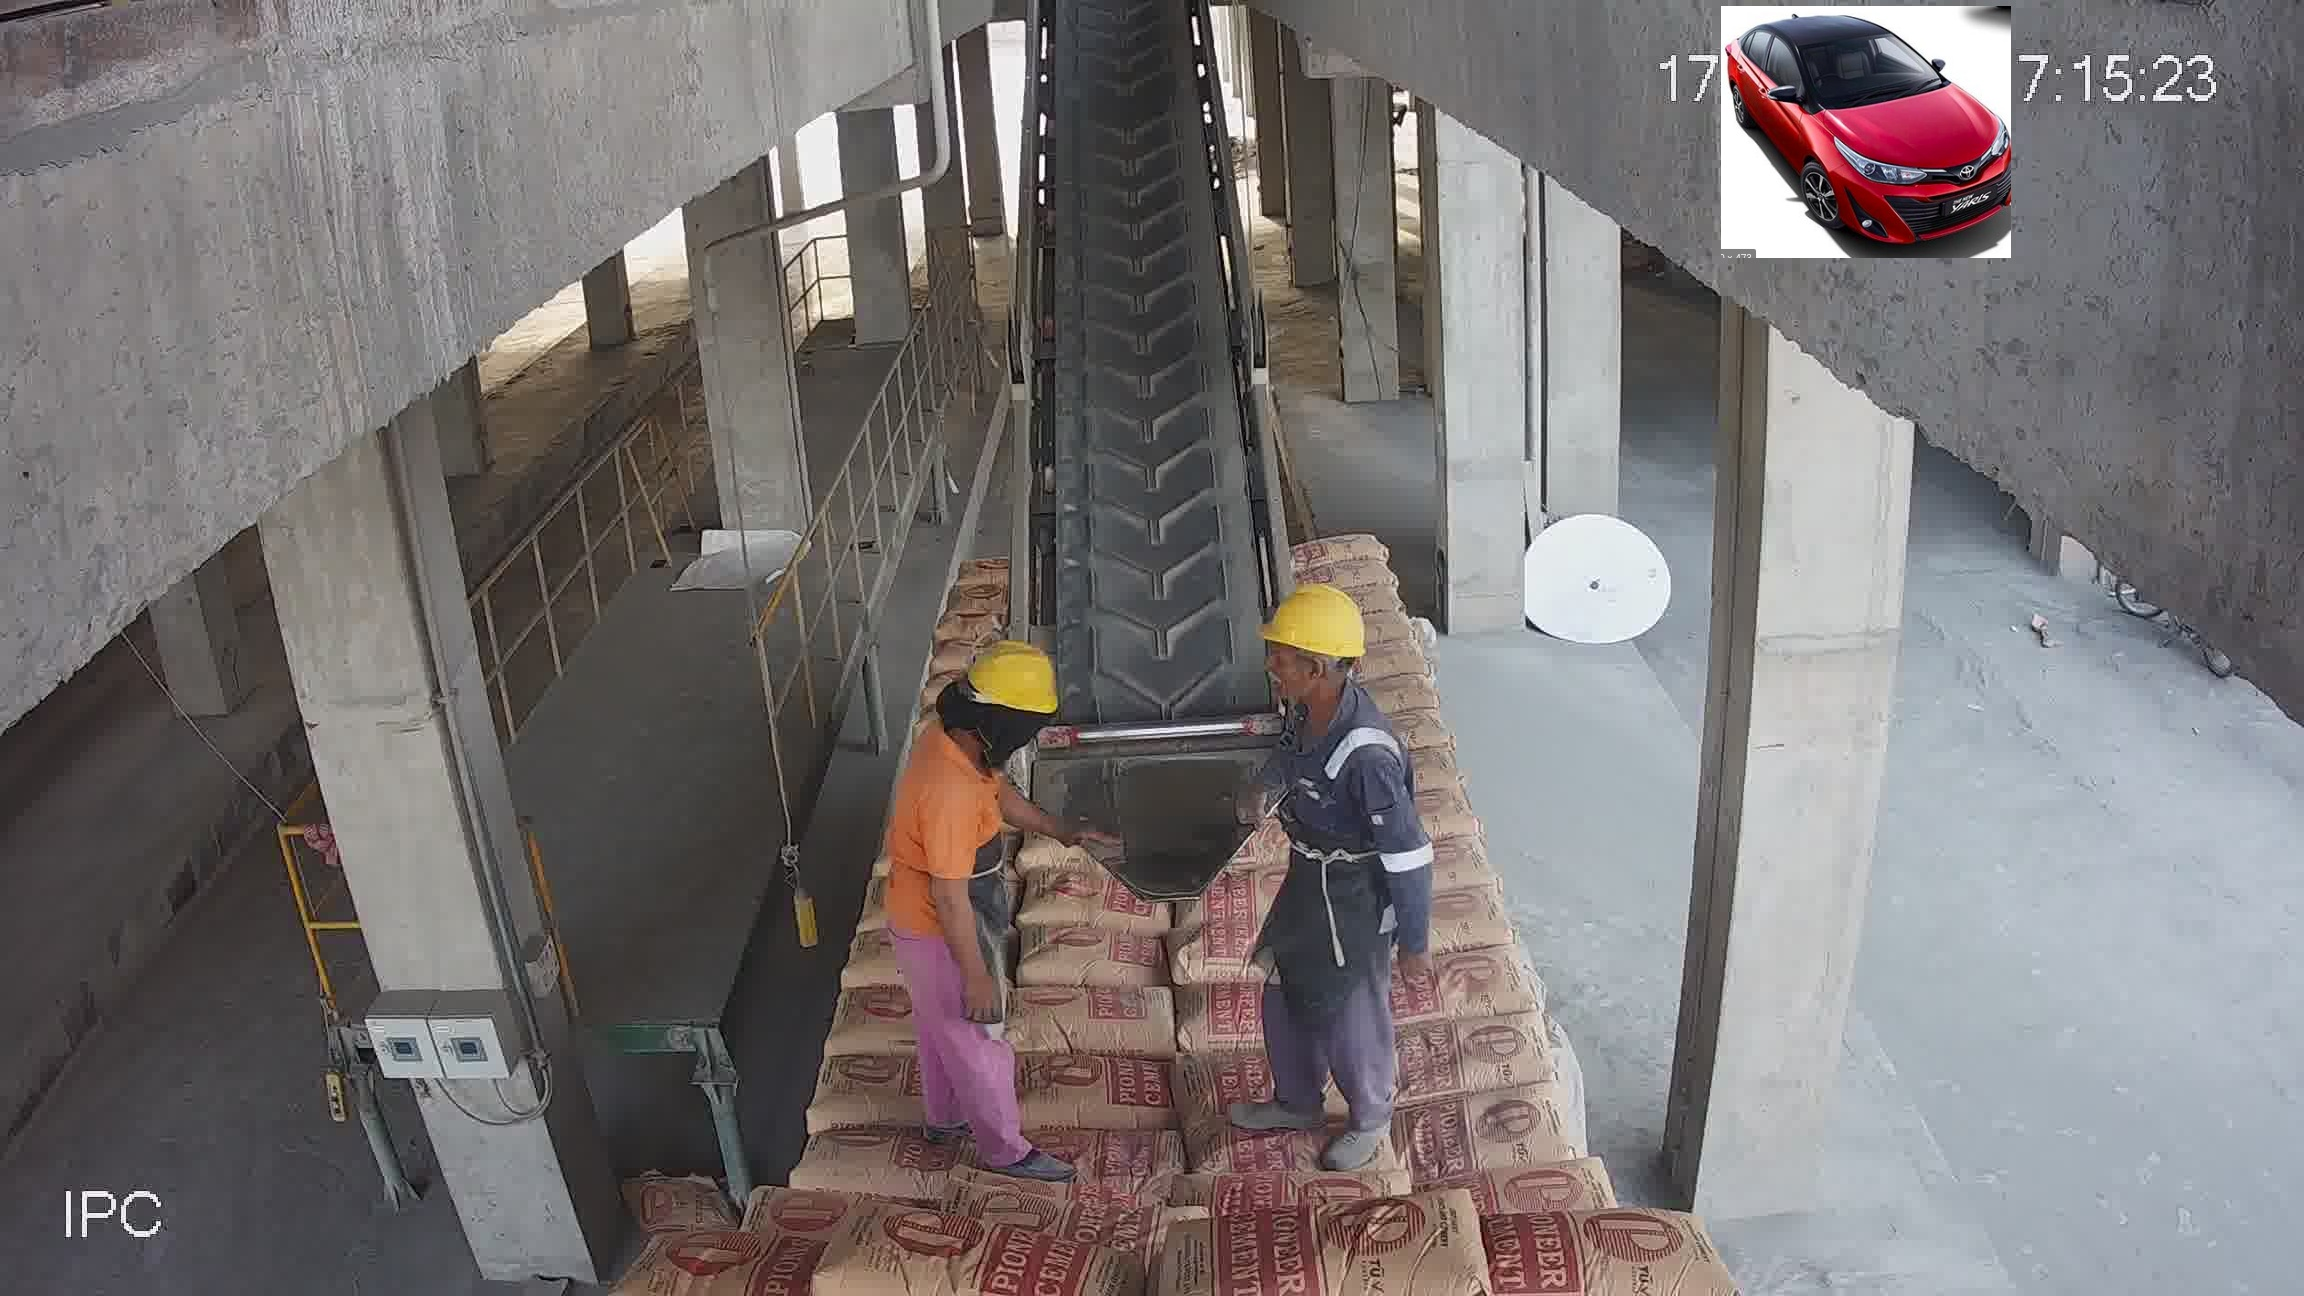bag_h: (1215, 1204, 1529, 1296), (1442, 1207, 1703, 1290), (820, 1226, 1105, 1296), (1407, 1078, 1601, 1177), (1165, 1136, 1377, 1222), (1381, 1014, 1563, 1108), (764, 1063, 965, 1143), (790, 976, 975, 1055), (1370, 949, 1544, 1033), (1006, 1059, 1187, 1139), (638, 1226, 847, 1294), (1011, 984, 1184, 1060), (964, 1117, 1155, 1184), (782, 1131, 984, 1190), (1435, 1161, 1606, 1225), (1017, 921, 1169, 987), (1288, 533, 1388, 571)
belt: (1002, 49, 1279, 704)
